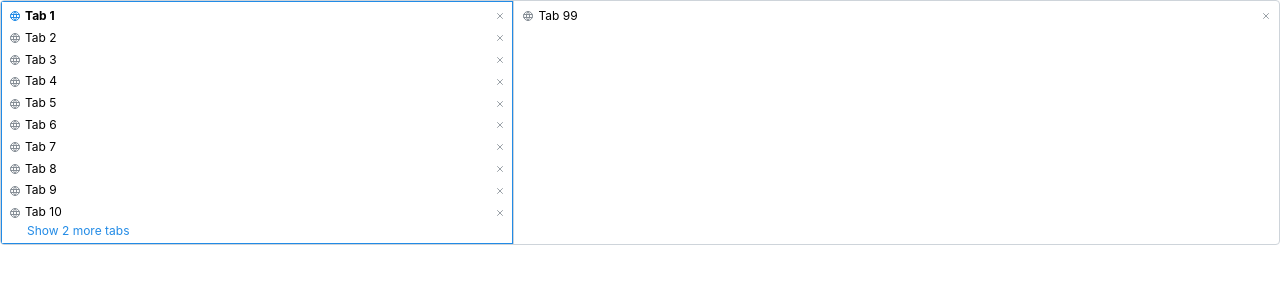
PaneDiagram › collapses tabs past 10 and expands them in place, with Show fewer
The width and height of the screenshot is (1280, 305).
Expected: the text "Tab 11" is not shown
Step 1. Click the button "Show 2 more tabs" → click(78, 230), box [5,223,509,240]
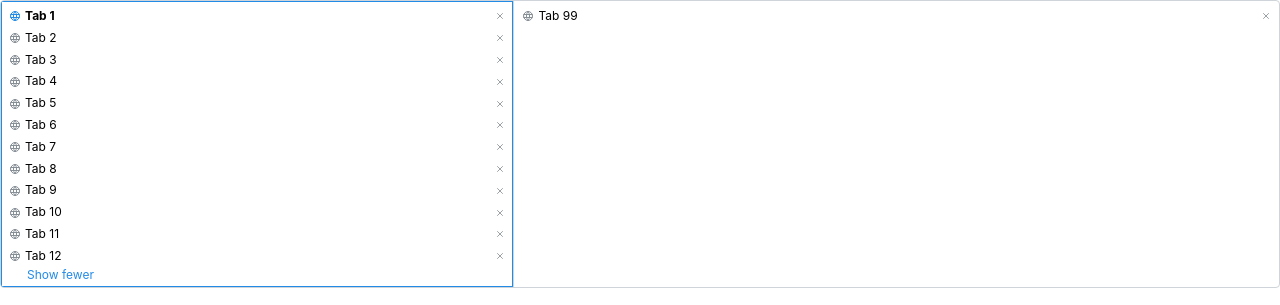
Now the text "Tab 12" is shown, box [25,248,62,265]
Step 2. Click the button "Show fewer" → click(60, 274), box [5,267,509,283]
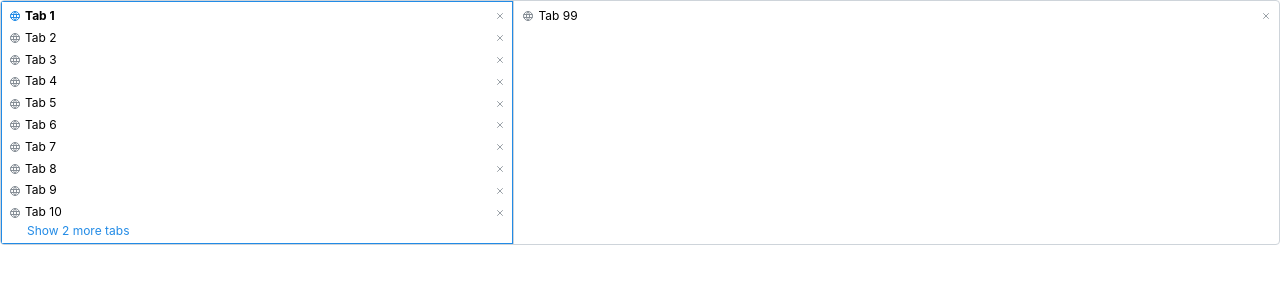
Now the button "Tab 12" is gone
